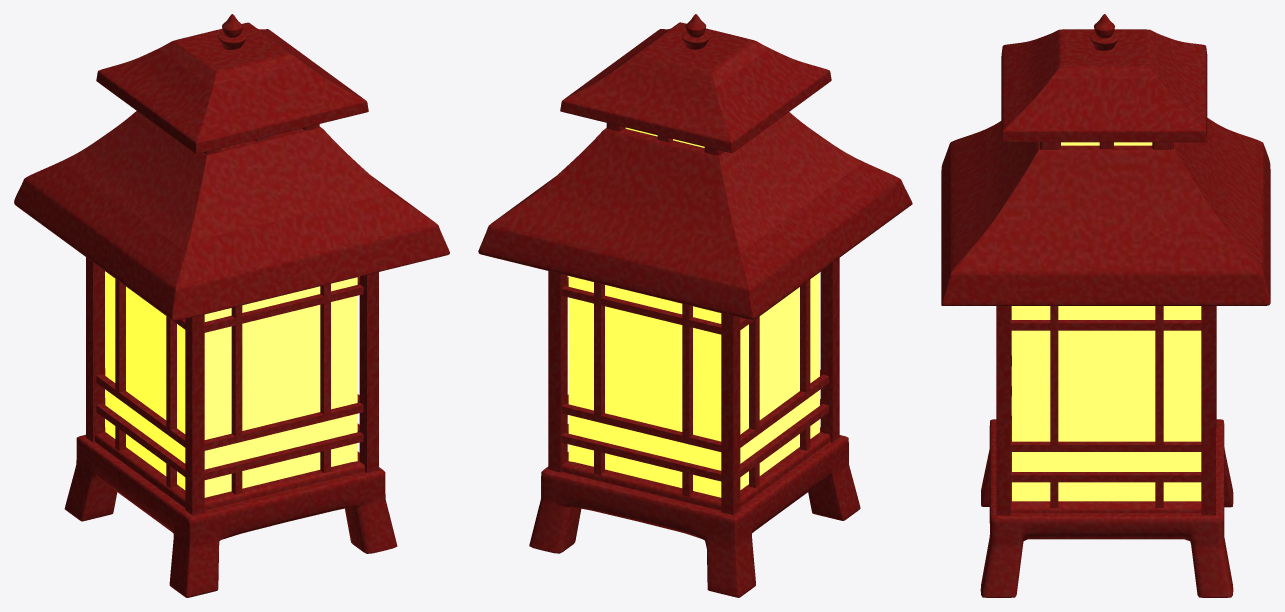
Rendered from PagodaLantern.fbx.
The picture shows the model from 3 angles, left to right: view 1: azimuth 30°, elevation 25°; view 2: azimuth 150°, elevation 25°; view 3: azimuth 270°, elevation 25°; orthographic projection. The views are drawn at different scales.
Visible parts, largest first — view 1: Cube.034; view 2: Cube.034; view 3: Cube.034.
Boxes of the visible parts, x1,y1,x2,y2 form: Cube.034: (14,14,449,597); Cube.034: (478,14,912,597); Cube.034: (941,14,1270,597).
Bounding box in the file's own units: 878 × 1557 × 876.
